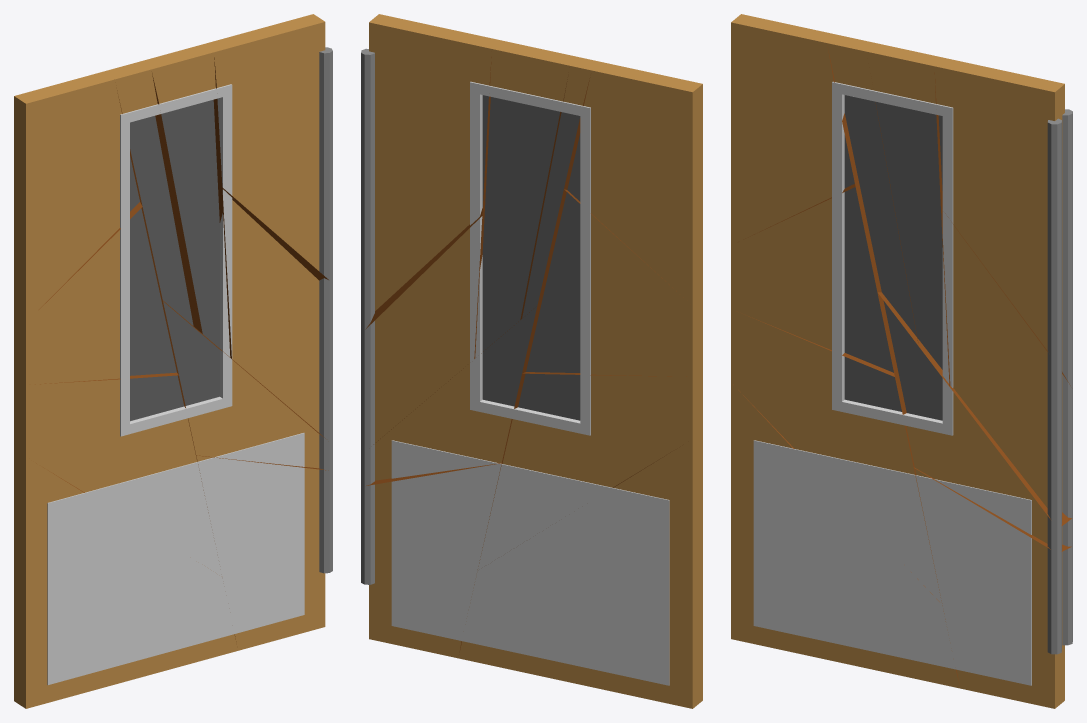
File: DoorFragments.fbx
3 views of the same model, side by side, from view 1: azimuth 30°, elevation 25°; view 2: azimuth 150°, elevation 25°; view 3: azimuth 330°, elevation 25° (orthographic).
Visible parts, largest first — view 1: Fragment3, Fragment9, Fragment2, Fragment5, Fragment1, Fragment4, Fragment8, Fragment7, Fragment0, Fragment6; view 2: Fragment3, Fragment9, Fragment2, Fragment5, Fragment4, Fragment1, Fragment7, Fragment8, Fragment0, Fragment6; view 3: Fragment3, Fragment9, Fragment2, Fragment1, Fragment5, Fragment8, Fragment4, Fragment7, Fragment0, Fragment6.
Part boxes in pixels (x1,y1,x2,y2): Fragment3: (14,436,237,708); Fragment9: (200,14,332,285); Fragment2: (14,372,222,576); Fragment5: (14,70,141,322); Fragment1: (196,455,332,650); Fragment4: (14,202,177,384); Fragment8: (218,187,332,444); Fragment7: (128,45,231,358); Fragment0: (162,300,332,470); Fragment6: (107,65,202,333); Fragment3: (458,439,702,708); Fragment9: (361,14,498,331); Fragment2: (477,370,702,570); Fragment5: (564,63,702,306); Fragment4: (522,189,702,376); Fragment1: (361,463,502,658); Fragment7: (474,40,569,358); Fragment8: (361,208,484,454); Fragment0: (361,302,541,486); Fragment6: (520,54,606,319); Fragment3: (731,382,960,688); Fragment9: (934,57,1072,389); Fragment2: (731,309,942,604); Fragment1: (914,468,1072,708); Fragment5: (731,14,858,245); Fragment8: (941,209,1072,526); Fragment4: (731,183,898,376); Fragment7: (864,40,950,386); Fragment0: (878,292,1072,552); Fragment6: (827,36,918,346).
Bounding box in the file's own units: 479 × 875 × 64.27.
2 materials, 1 textured.
